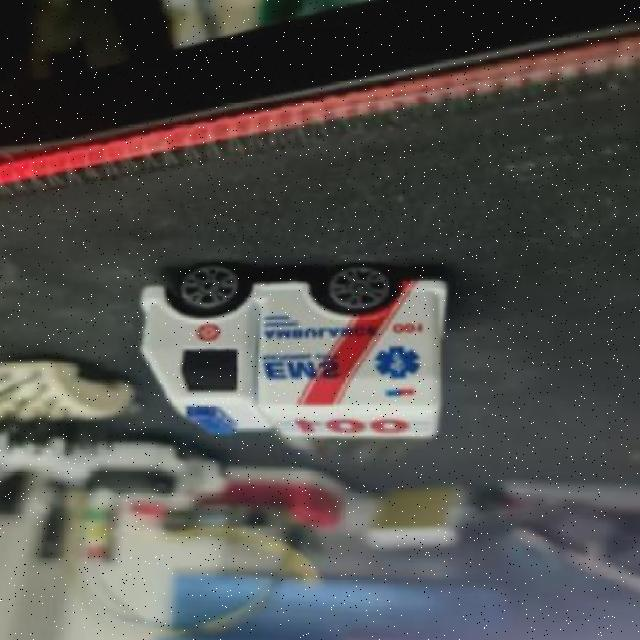car: (145, 265, 468, 449)
